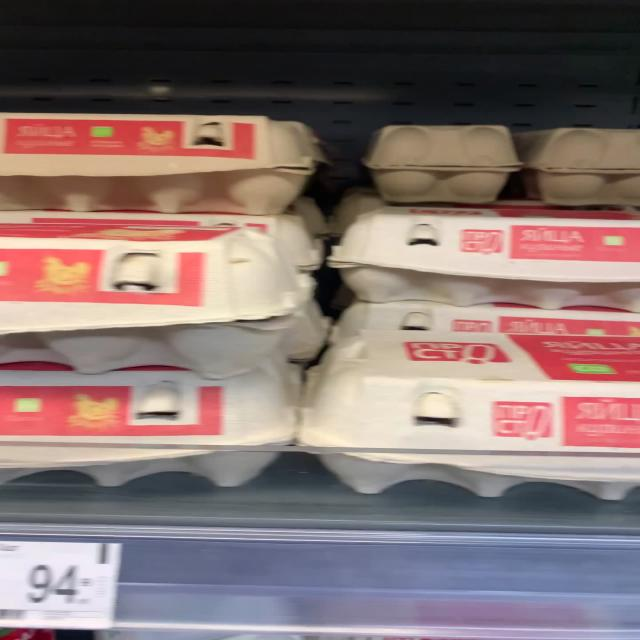egg box: (349, 188, 639, 308), (9, 110, 320, 212)
